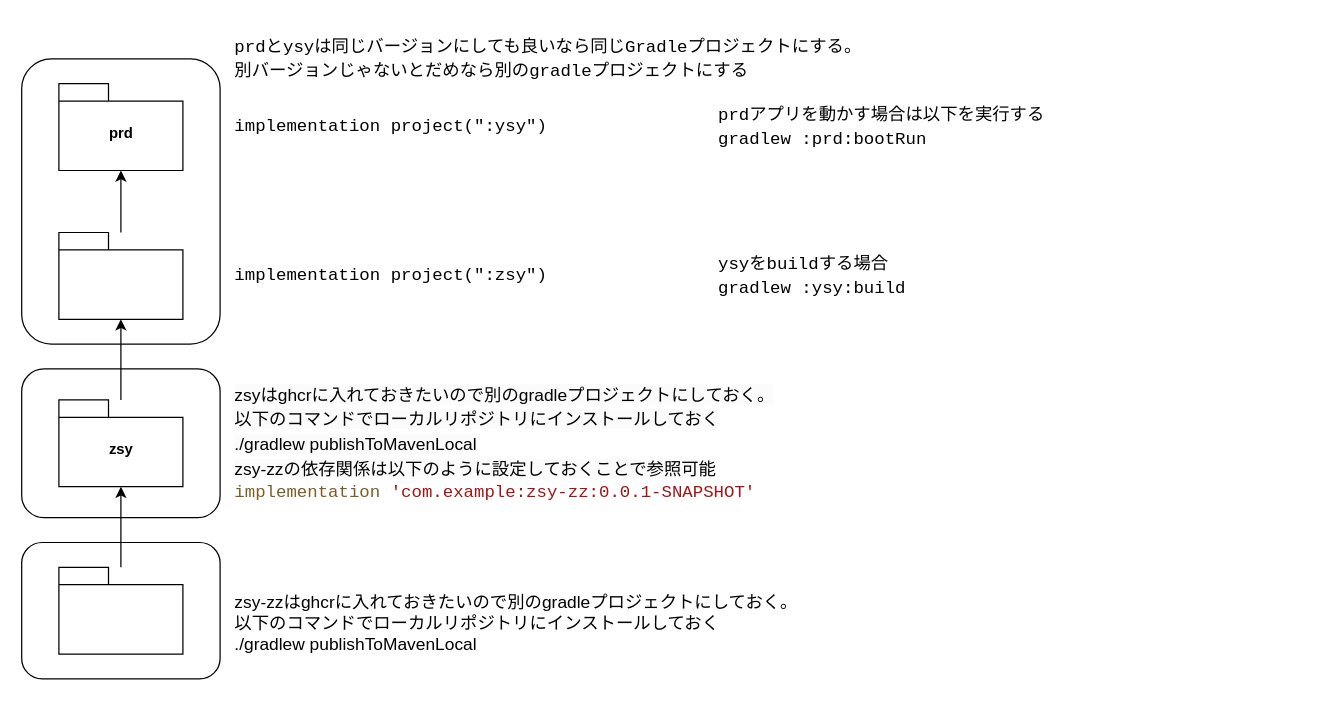
The diagram is 1333 pixels wide and 701 high, and some of its shapes have lost their labels. Each missing label, with the box of its shape:
ysy: (58, 231, 183, 319)
zsy-zz: (58, 566, 183, 654)
